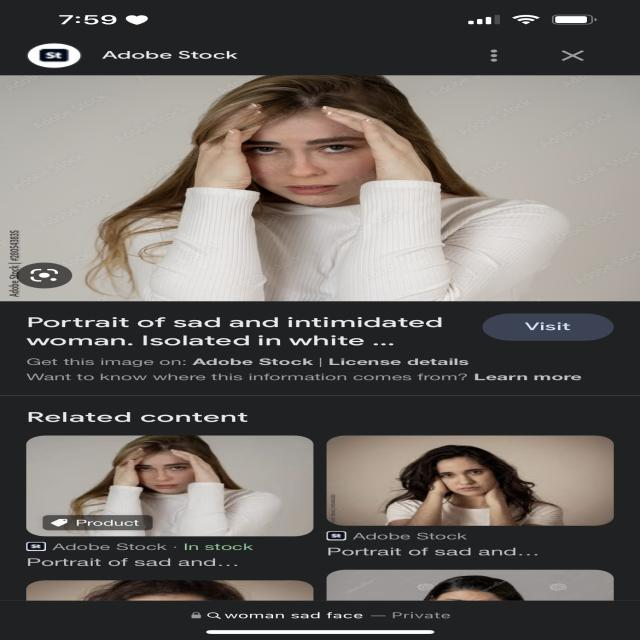natural: (226, 97, 432, 207)
